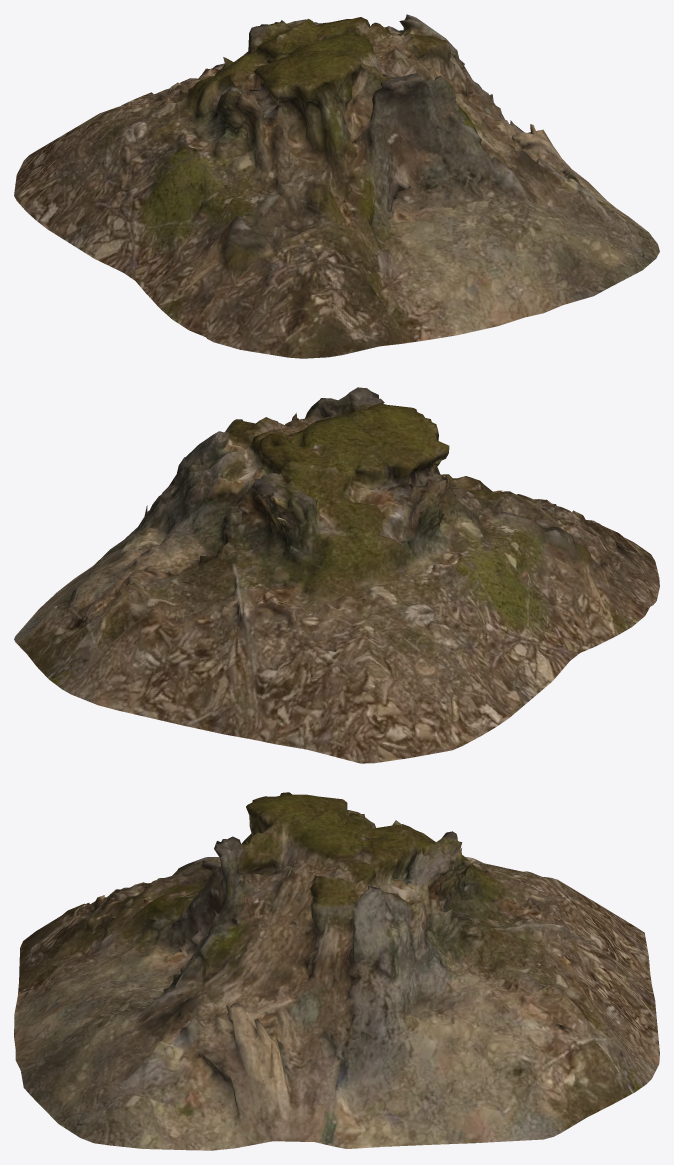
File: tree_stump_01.glb
3 renders of one model, top to bottom at view 1: azimuth 30°, elevation 25°; view 2: azimuth 150°, elevation 25°; view 3: azimuth 270°, elevation 25°, orthographic. The views are drawn at different scales.
Parts seen in each view (by area): view 1: tree_stump_01; view 2: tree_stump_01; view 3: tree_stump_01.
Boxes of the visible parts, box(x1,y1,x2,y2) form: tree_stump_01: box(14, 14, 659, 358); tree_stump_01: box(14, 387, 659, 763); tree_stump_01: box(14, 792, 659, 1150).
Size of the model in its own units: 1.43 by 0.571 by 1.59.
1 material, 1 textured.
